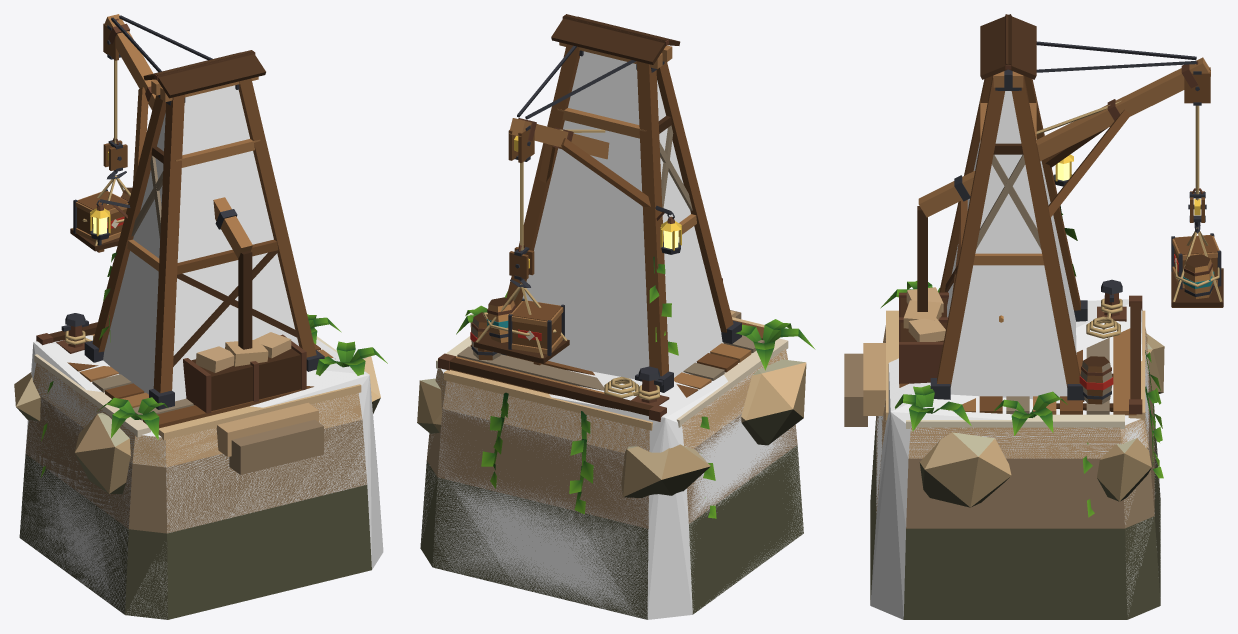
The model's file is coastal_rope_ferry_pulley.glb.
3 renders of one model, left to right at view 1: azimuth 30°, elevation 25°; view 2: azimuth 150°, elevation 25°; view 3: azimuth 270°, elevation 25°, orthographic. The views are drawn at different scales.
Visible parts, largest first — view 1: CoastalRopeFerryPulley, col_ferry_base, col_ferry_frame; view 2: CoastalRopeFerryPulley, col_ferry_base, col_ferry_frame; view 3: CoastalRopeFerryPulley, col_ferry_frame, col_ferry_base.
Boxes of the visible parts, x1=… form: CoastalRopeFerryPulley: x1=14, y1=14, x2=387, y2=619; col_ferry_base: x1=20, y1=335, x2=383, y2=619; col_ferry_frame: x1=103, y1=85, x2=298, y2=401; CoastalRopeFerryPulley: x1=417, y1=14, x2=815, y2=619; col_ferry_base: x1=421, y1=338, x2=803, y2=619; col_ferry_frame: x1=522, y1=51, x2=723, y2=379; CoastalRopeFerryPulley: x1=844, y1=14, x2=1223, y2=619; col_ferry_frame: x1=947, y1=91, x2=1076, y2=400; col_ferry_base: x1=870, y1=299, x2=1160, y2=619.
Bounding box in the file's own units: 6.24 × 9.54 × 6.38.
